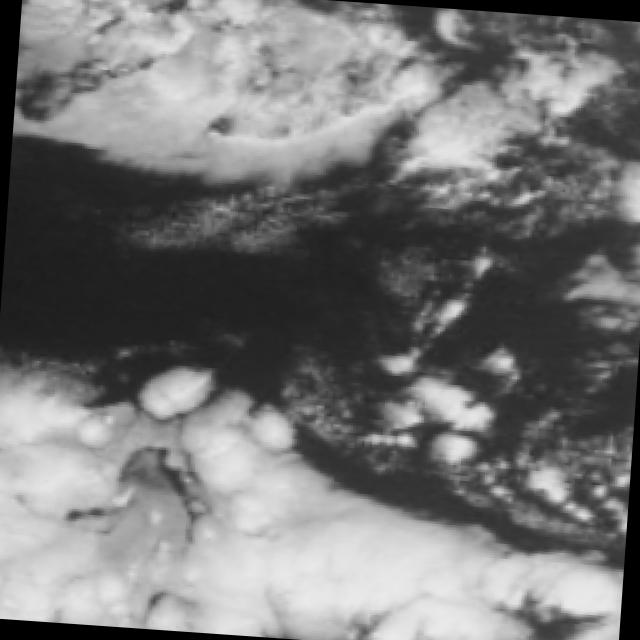CB: (0, 440, 246, 625), (242, 515, 487, 640)
